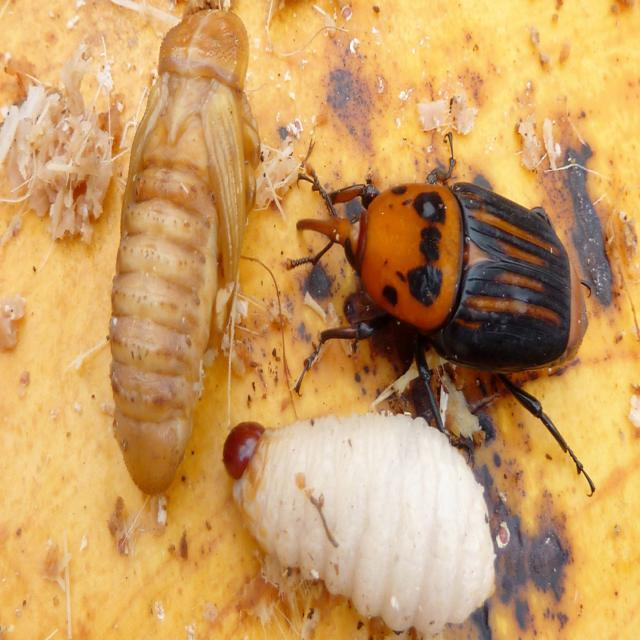Red-palm-weevil: (294, 152, 595, 408)
